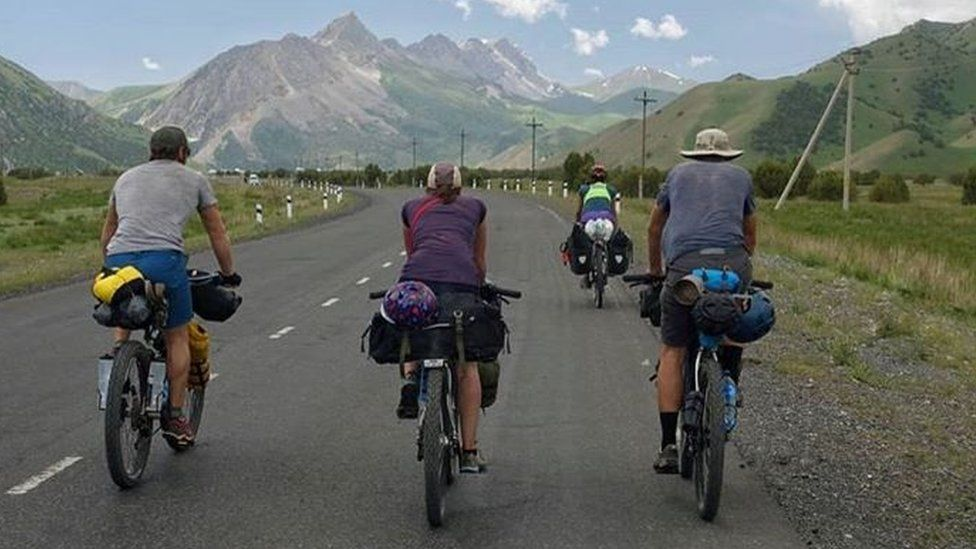commuter: (623, 129, 780, 521), (88, 122, 244, 497), (363, 163, 512, 539), (559, 166, 633, 309)
